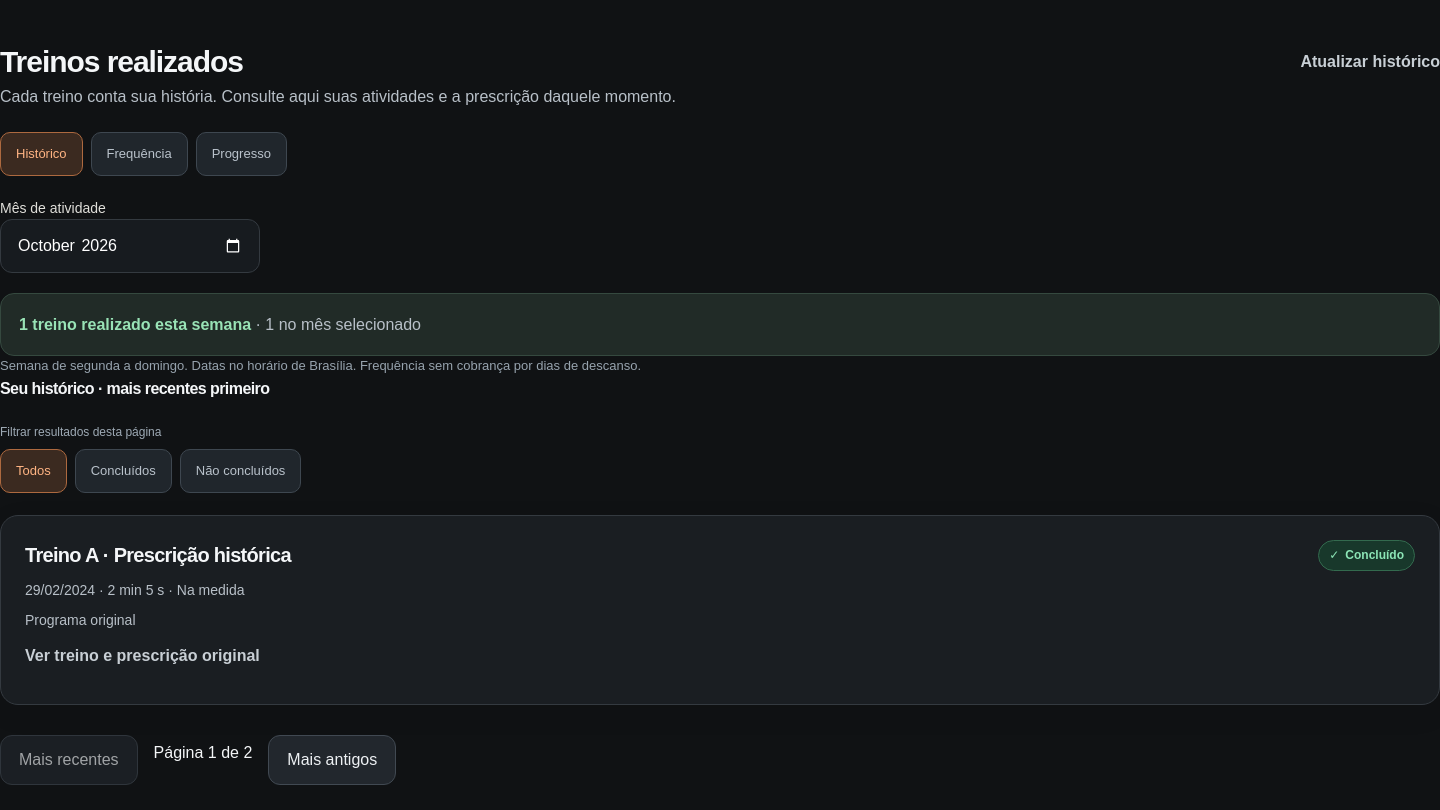
Test case: opens the historical snapshot, paginates and does not show private feedback in the student list
Expected: the heading "Seu histórico · mais recentes primeiro" is shown, [0,380,270,397]
Expected: the text "SEGREDO PRIVADO" is not shown
Click the button "Mais antigos": (332, 760) [268,735,396,785]
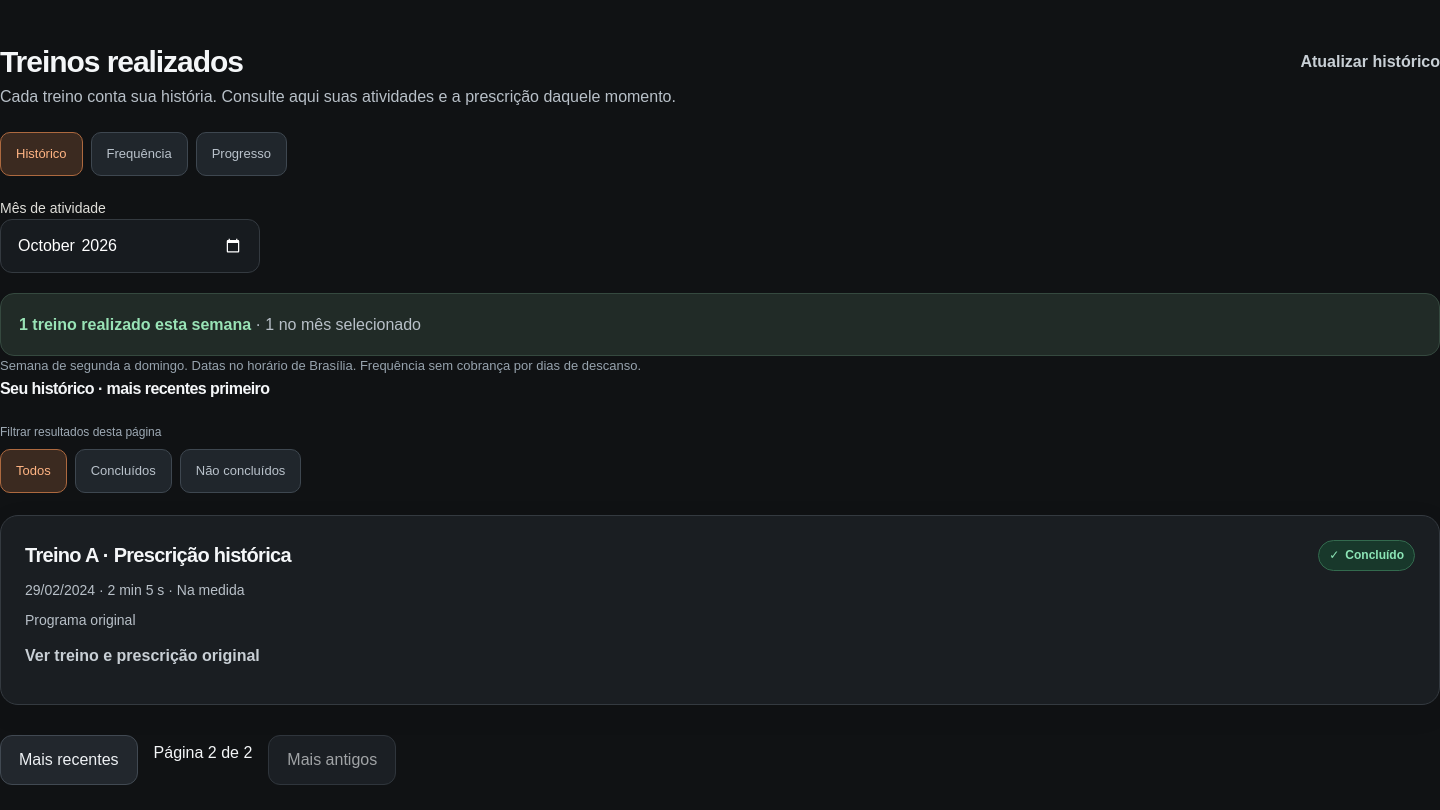
Click the button "Ver treino e prescrição original": (142, 656) [25,632,260,680]
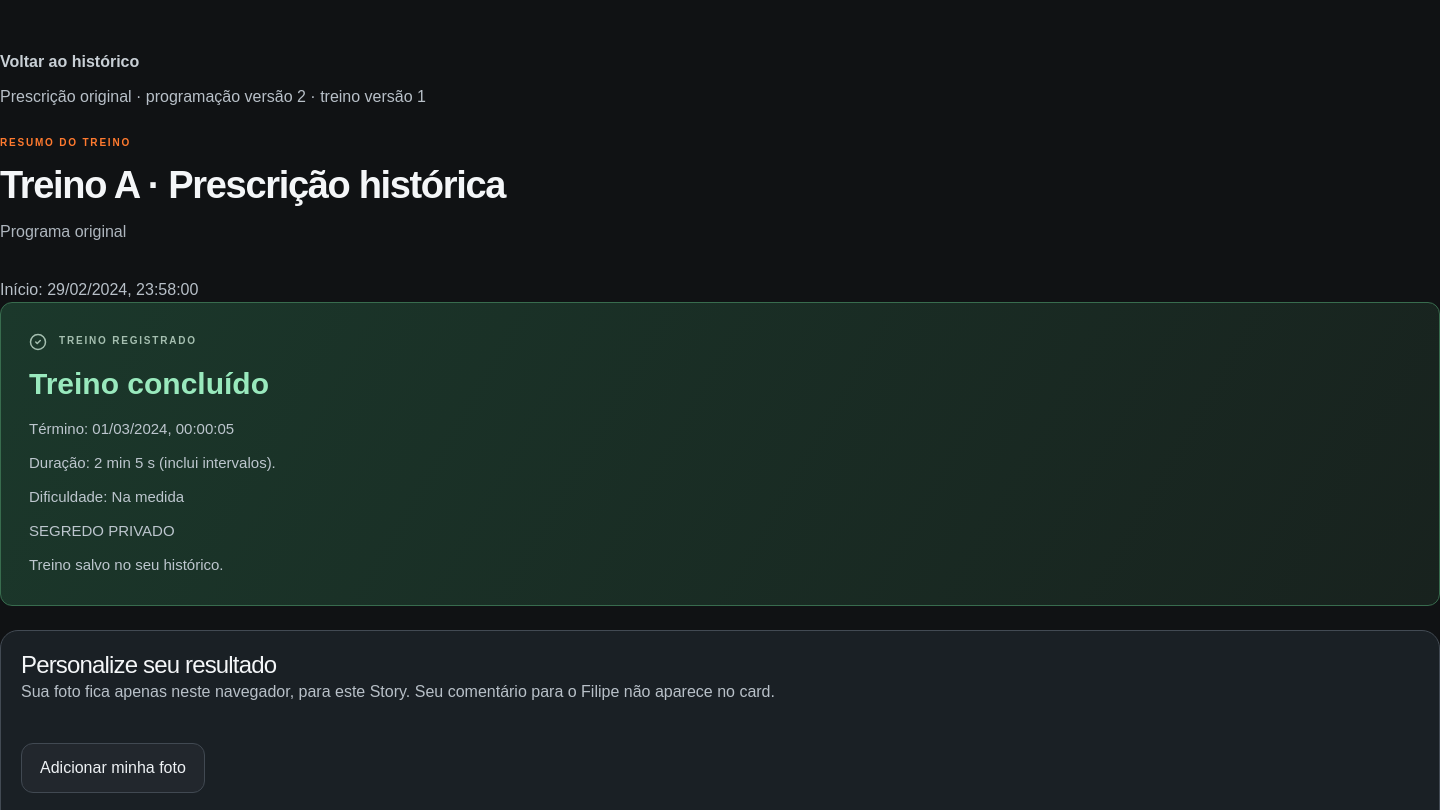
Result: the text "SEGREDO PRIVADO" is shown at [29,522,175,540]
Result: the text "Prescrição original · programação versão 2 · treino versão 1" is shown at [0,88,426,105]
